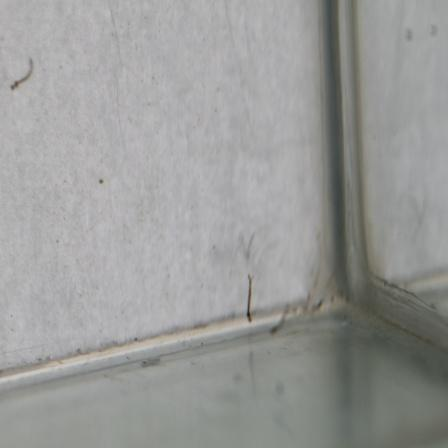Jentik-Nyamuk: (6, 53, 38, 92), (242, 268, 259, 326)
